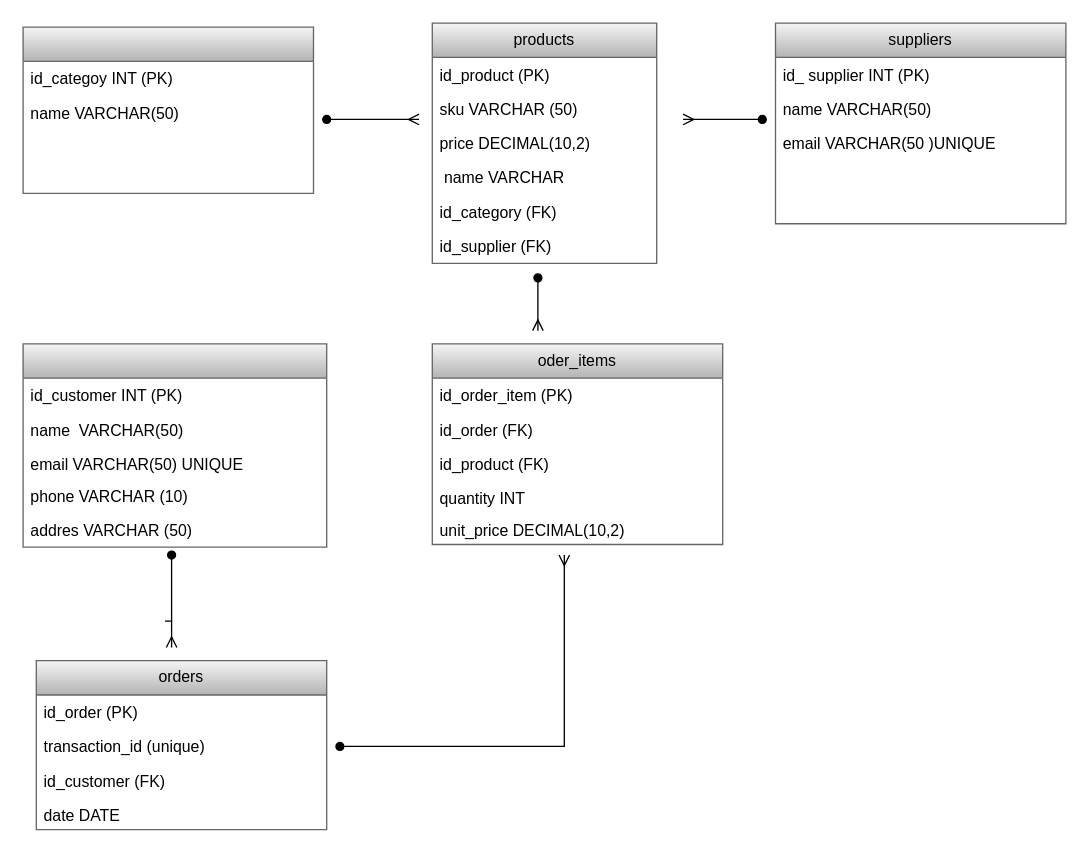
This 1089x857 diagram has some shape labels left out. The shapes that lost their labels are listed below. From the top down, each one's box as (x1, y1, x2, y2) in pixels, then its label:
(22, 26, 314, 193): categories
(22, 343, 327, 547): customers
